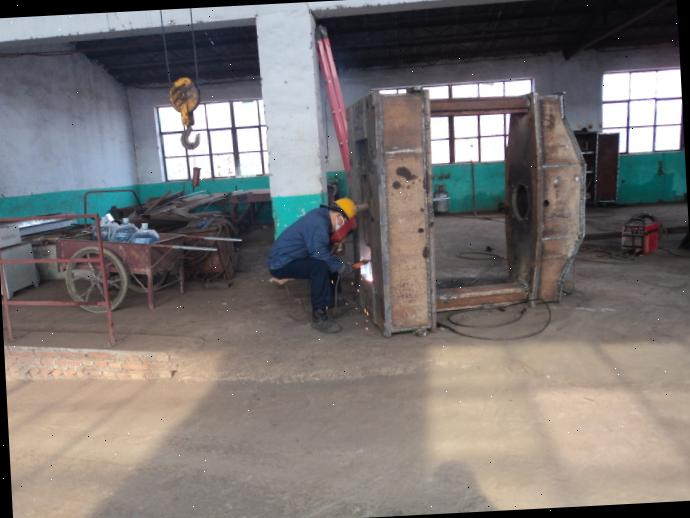helmet: (334, 196, 358, 219)
wear: (268, 210, 334, 270)
